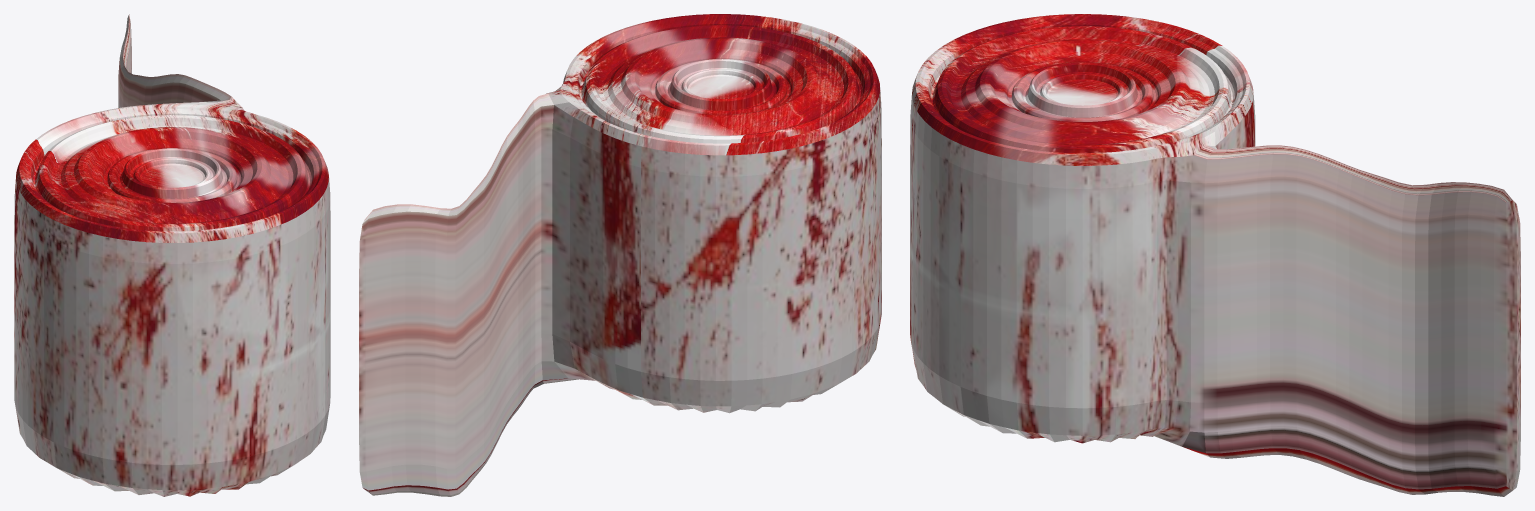
File: Venda_03.fbx
3 renders of one model, left to right at view 1: azimuth 30°, elevation 25°; view 2: azimuth 150°, elevation 25°; view 3: azimuth 270°, elevation 25°, orthographic. The views are drawn at different scales.
Visible parts, largest first — view 1: Cylinder.003; view 2: Cylinder.003; view 3: Cylinder.003.
Part boxes in pixels (x1,y1,x2,y2): Cylinder.003: (14,14,330,496); Cylinder.003: (359,14,881,496); Cylinder.003: (910,14,1520,496).
Size of the model in its own units: 212 by 226 by 351.
